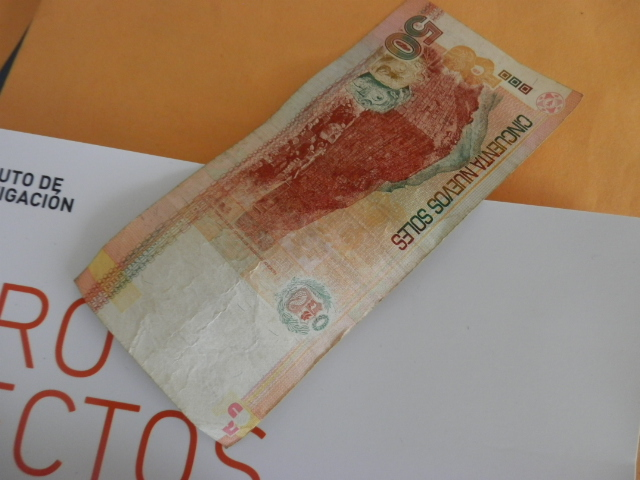B50: (89, 18, 584, 440)
